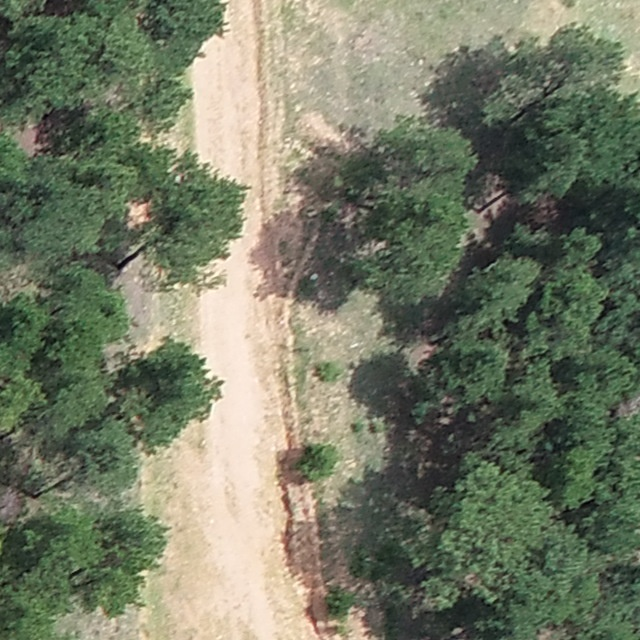unhealthy: (0, 484, 24, 524), (615, 391, 640, 420)
